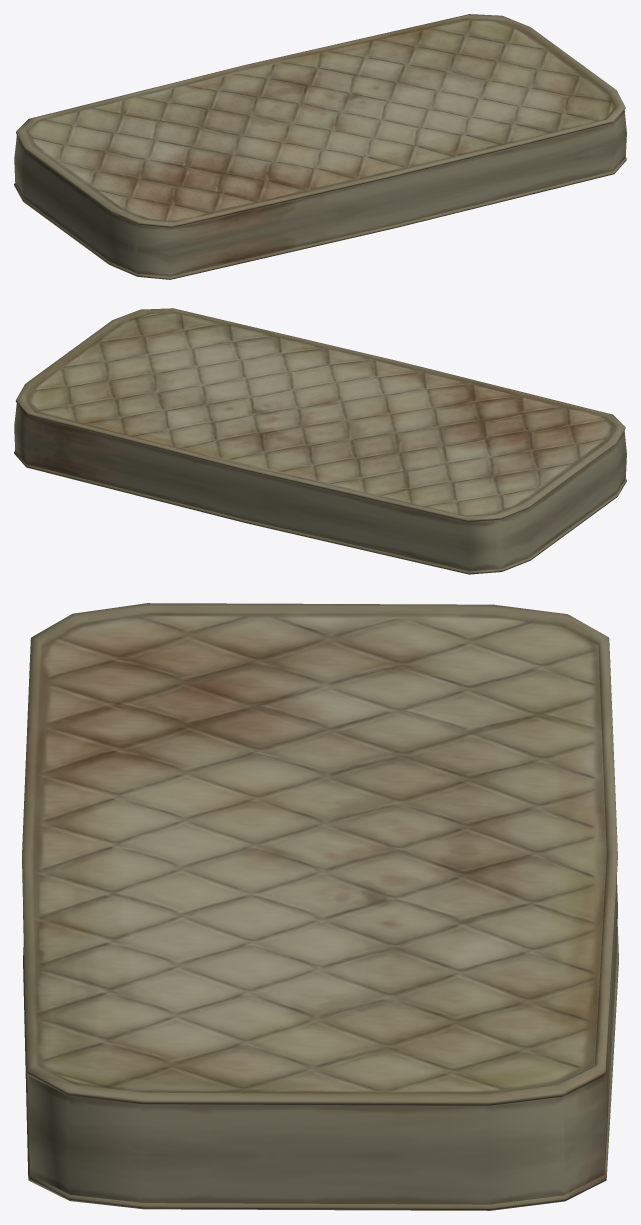
The model's file is Mattress_Scaled.fbx.
3 renders of one model, top to bottom at view 1: azimuth 30°, elevation 25°; view 2: azimuth 150°, elevation 25°; view 3: azimuth 270°, elevation 25°, orthographic. The views are drawn at different scales.
Parts seen in each view (by area): view 1: Mattress1; view 2: Mattress1; view 3: Mattress1.
Boxes of the visible parts, <box> form: Mattress1: <box>14,14,626,279</box>; Mattress1: <box>14,308,626,574</box>; Mattress1: <box>22,603,618,1210</box>.
Bounding box in the file's own units: 236 × 26.55 × 120.
